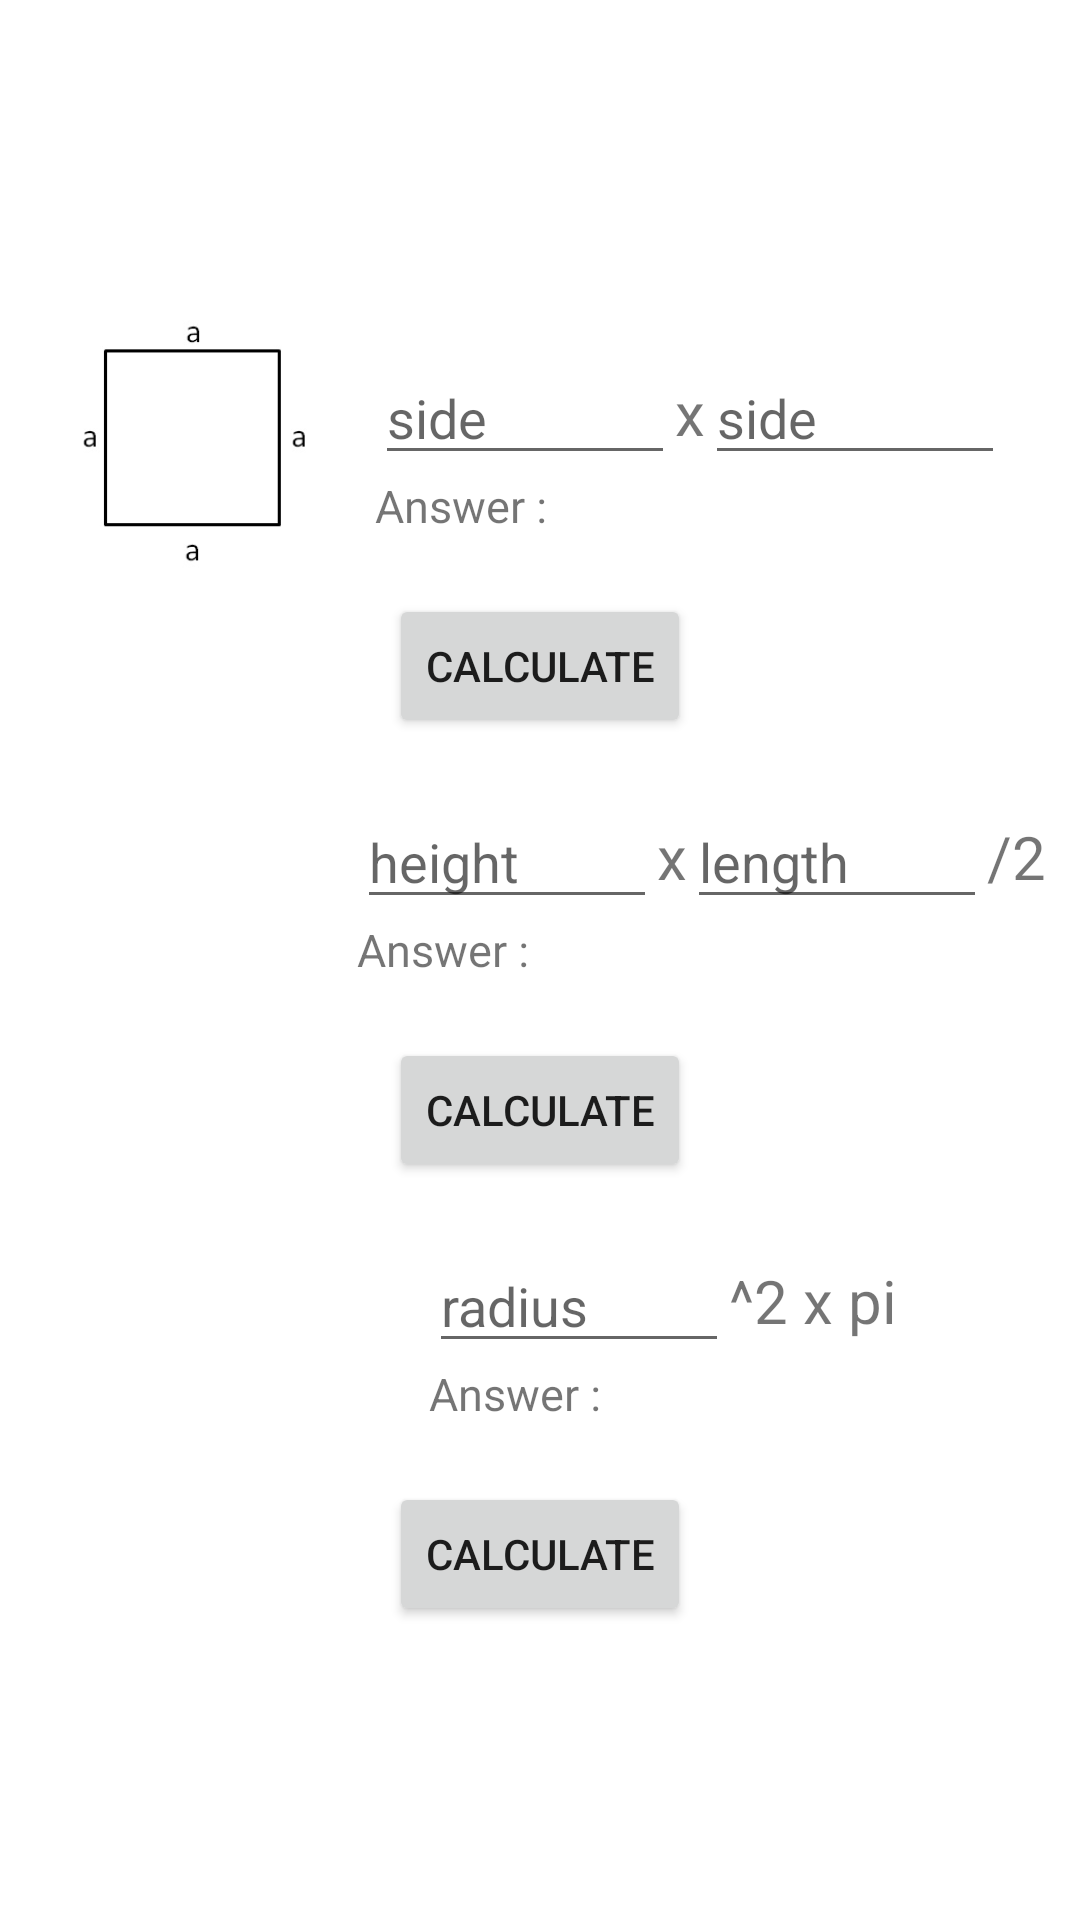

Point at icon controls on the screen. Image size 1080x1920, points as (x,y).
square: (194,443)
